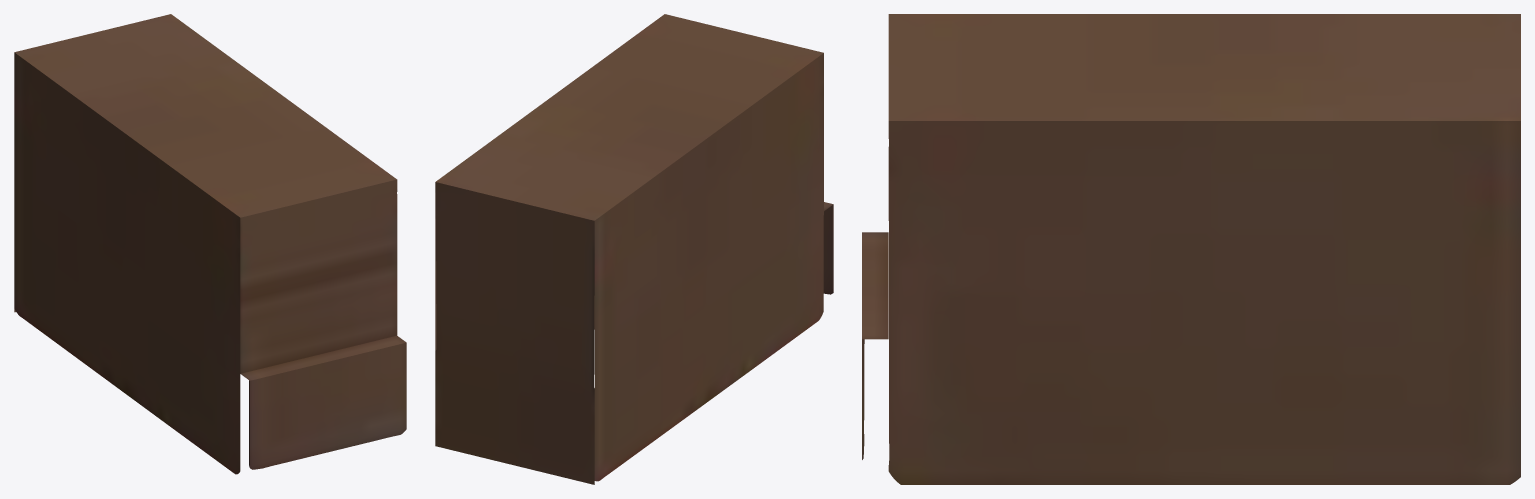
File: desk-pedestal--2.gltf
3 renders of one model, left to right at view 1: azimuth 30°, elevation 25°; view 2: azimuth 150°, elevation 25°; view 3: azimuth 270°, elevation 25°, orthographic. The views are drawn at different scales.
Parts seen in each view (by area): view 1: Cabinet_2; view 2: Cabinet_2; view 3: Cabinet_2.
Part boxes in pixels (x1,y1,x2,y2): Cabinet_2: (14, 14, 406, 474); Cabinet_2: (435, 14, 833, 484); Cabinet_2: (862, 14, 1520, 484).
Bounding box in the file's own units: 0.4354 × 0.6905 × 1.13.
1 material, 1 textured.
